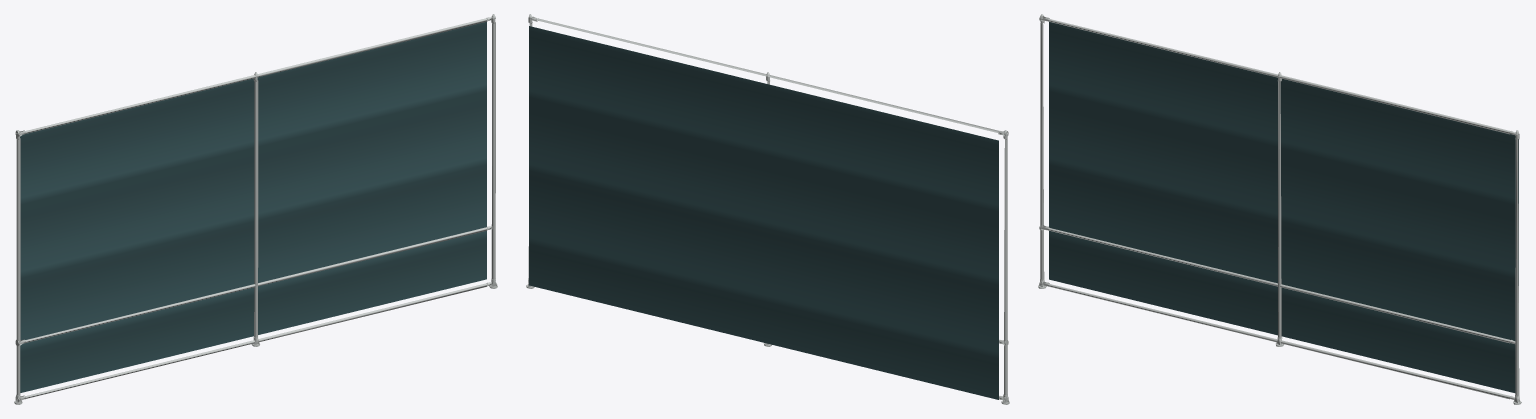
File: clinic-window.glb
3 views of the same model, side by side, from view 1: azimuth 30°, elevation 25°; view 2: azimuth 150°, elevation 25°; view 3: azimuth 330°, elevation 25° (orthographic).
Parts seen in each view (by area): view 1: Clinic casement glazing; view 2: Clinic casement glazing; view 3: Clinic casement glazing.
Part boxes in pixels (x1,y1,x2,y2): Clinic casement glazing: (14,14,497,404); Clinic casement glazing: (526,14,1009,404); Clinic casement glazing: (1038,14,1521,404).
Size of the model in its own units: 3.7 by 2 by 0.0832.
2 materials, 1 textured.
